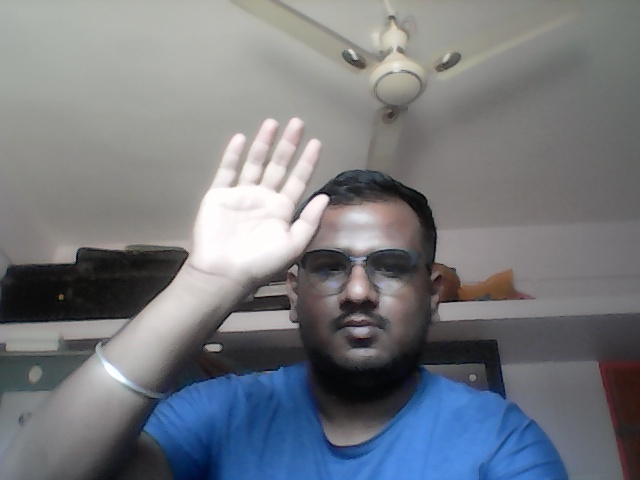Hello: (192, 116, 333, 281)
